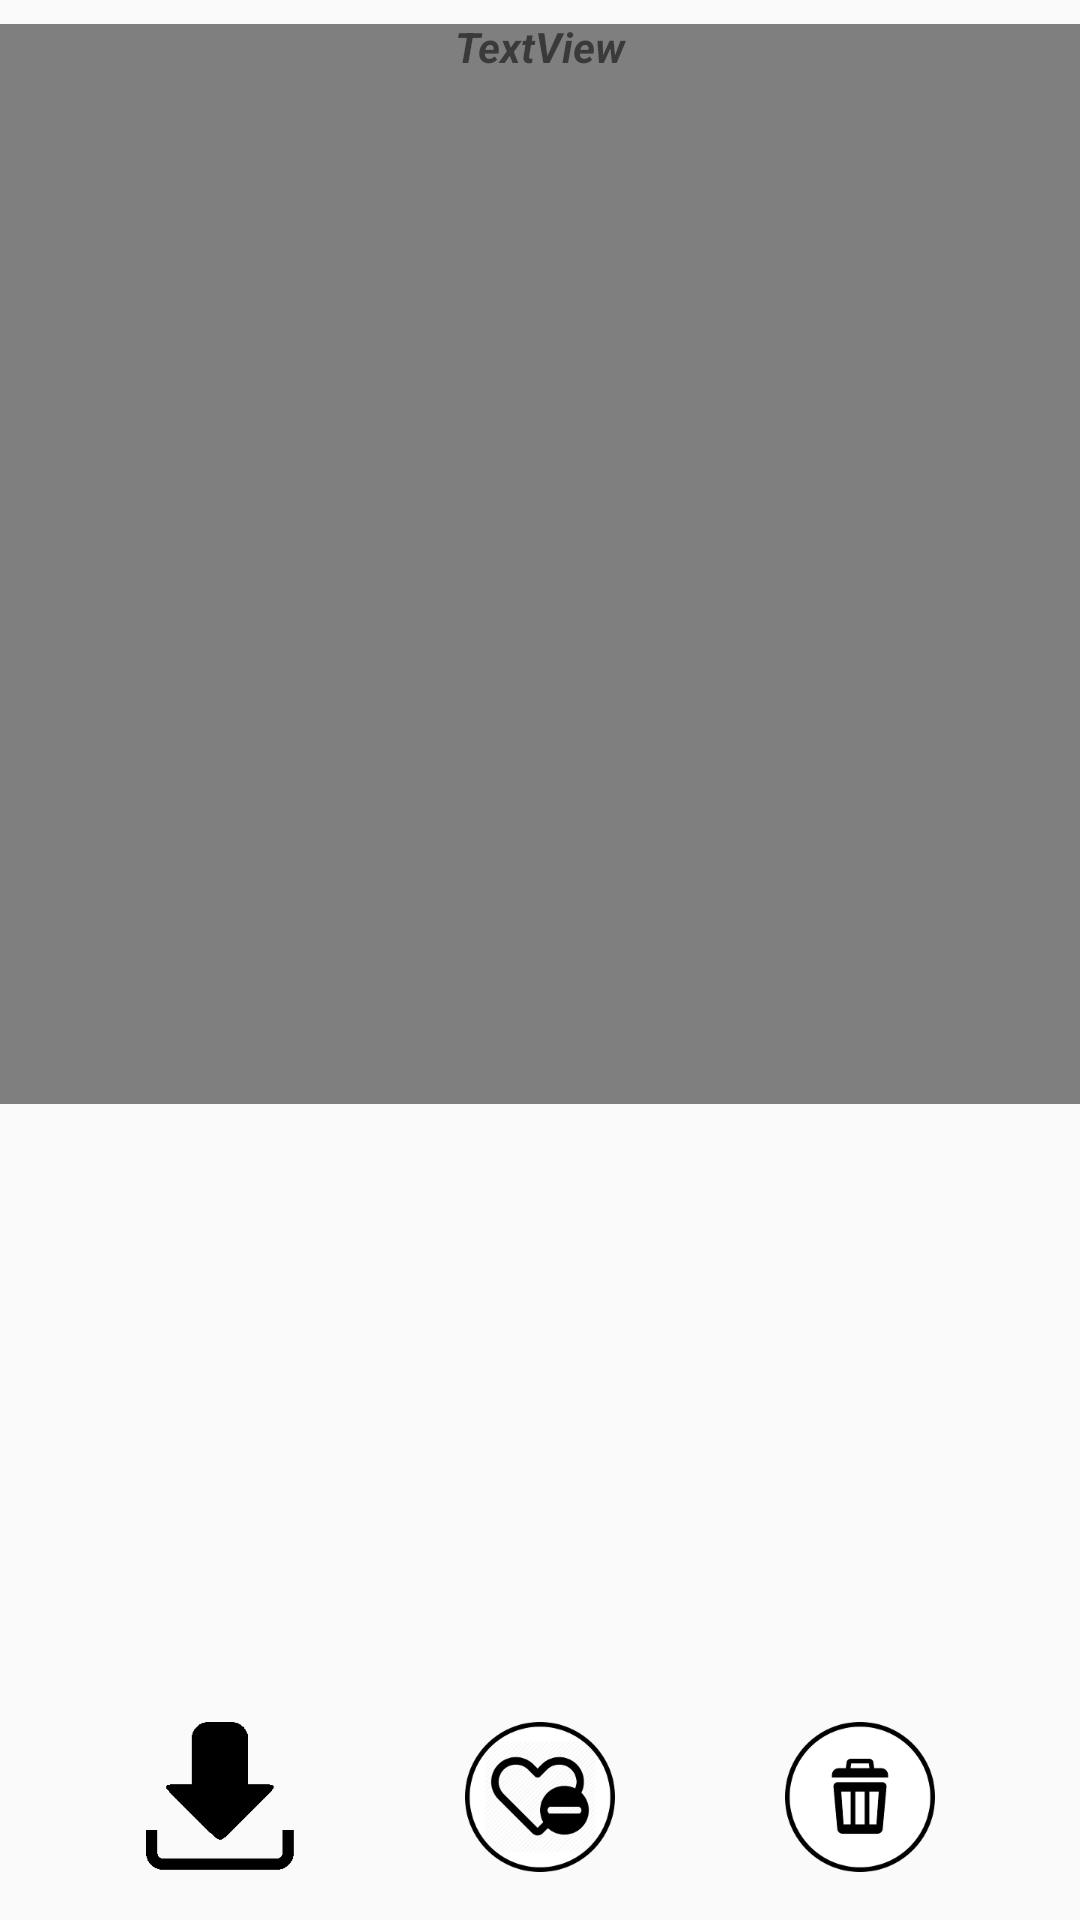

Icons on this 1080 x 1920 Android screen, each with its box as (x1, y1, x2, y2):
download: (146, 1722, 294, 1870)
